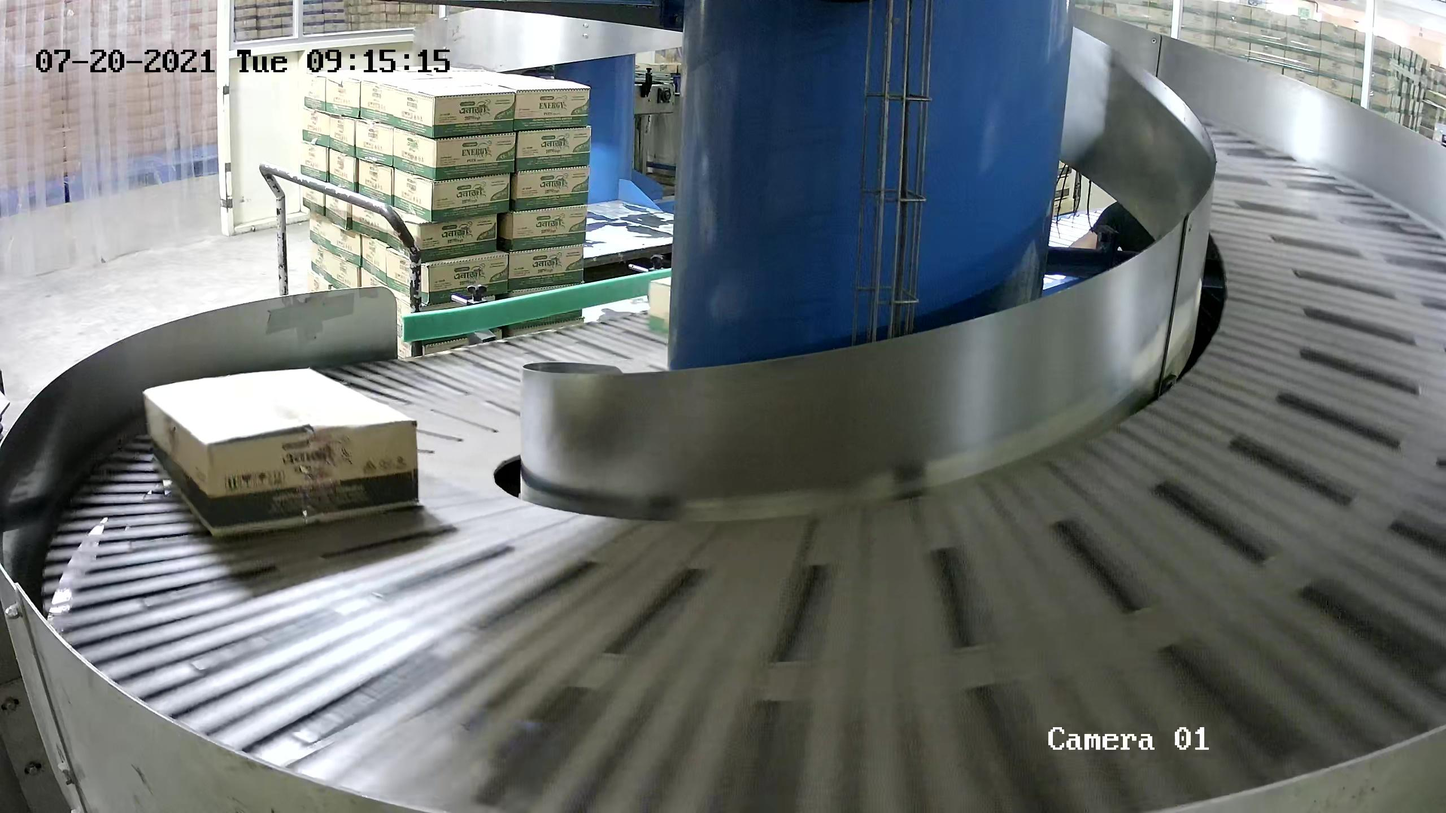Box: (144, 366, 423, 541)
